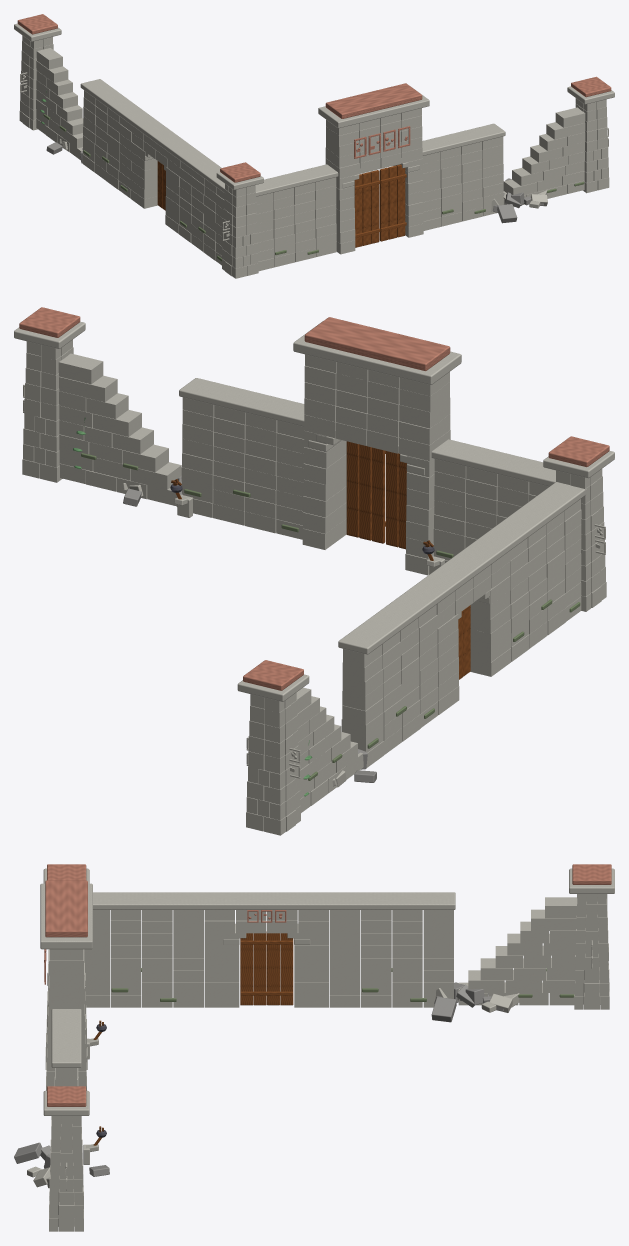
File: jungle-ruins-light.glb
3 renders of one model, top to bottom at view 1: azimuth 30°, elevation 25°; view 2: azimuth 150°, elevation 25°; view 3: azimuth 270°, elevation 25°, orthographic. The views are drawn at different scales.
Visible parts, largest first — view 1: 179-stone-gate-tower0, 180-stone-wall-block0, 178-stone-wall-block0, 181-stone-wall-collapsed0, 185-stone-wall-block0, 184-corbel-arch-doorway0, 183-stone-wall-block0, 186-stone-wall-collapsed0, 177-stone-corner-pier0, 182-stone-corner-pier0, 179-stone-gate-tower1, 187-stone-corner-pier0 (+7 smaller); view 2: 179-stone-gate-tower0, 180-stone-wall-block0, 185-stone-wall-block0, 181-stone-wall-collapsed0, 183-stone-wall-block0, 184-corbel-arch-doorway0, 178-stone-wall-block0, 187-stone-corner-pier0, 182-stone-corner-pier0, 186-stone-wall-collapsed0, 177-stone-corner-pier0, 179-stone-gate-tower1 (+6 smaller); view 3: 185-stone-wall-block0, 183-stone-wall-block0, 184-corbel-arch-doorway0, 186-stone-wall-collapsed0, 179-stone-gate-tower0, 182-stone-corner-pier0, 187-stone-corner-pier0, 184-corbel-arch-doorwaydoor-corbel, 179-stone-gate-tower1, 180-stone-wall-block0, 186-stone-wall-collapsed1, 187-stone-corner-pier1 (+3 smaller).
Part boxes in pixels (<box>): 179-stone-gate-tower0: <box>318,86,429,254</box>; 180-stone-wall-block0: <box>422,123,505,230</box>; 178-stone-wall-block0: <box>255,164,338,271</box>; 181-stone-wall-collapsed0: <box>491,107,585,211</box>; 185-stone-wall-block0: <box>80,79,148,198</box>; 184-corbel-arch-doorway0: <box>129,114,196,233</box>; 183-stone-wall-block0: <box>177,149,225,265</box>; 186-stone-wall-collapsed0: <box>36,48,83,160</box>; 177-stone-corner-pier0: <box>216,172,263,278</box>; 182-stone-corner-pier0: <box>567,86,614,193</box>; 179-stone-gate-tower1: <box>325,83,422,158</box>; 187-stone-corner-pier0: <box>14,23,61,130</box>; 179-stone-gate-tower0: <box>293,321,461,575</box>; 180-stone-wall-block0: <box>179,378,304,539</box>; 185-stone-wall-block0: <box>338,587,441,768</box>; 181-stone-wall-collapsed0: <box>58,353,181,506</box>; 183-stone-wall-block0: <box>485,482,586,661</box>; 184-corbel-arch-doorway0: <box>412,534,514,714</box>; 178-stone-wall-block0: <box>431,439,555,562</box>; 187-stone-corner-pier0: <box>237,674,309,835</box>; 182-stone-corner-pier0: <box>14,321,85,482</box>; 186-stone-wall-collapsed0: <box>296,687,363,812</box>; 177-stone-corner-pier0: <box>543,450,614,611</box>; 179-stone-gate-tower1: <box>304,317,450,371</box>; 185-stone-wall-block0: <box>329,892,455,1007</box>; 183-stone-wall-block0: <box>84,892,204,1007</box>; 184-corbel-arch-doorway0: <box>204,892,329,1007</box>; 186-stone-wall-collapsed0: <box>435,897,576,1012</box>; 179-stone-gate-tower0: <box>40,883,92,1090</box>; 182-stone-corner-pier0: <box>43,1091,89,1231</box>; 187-stone-corner-pier0: <box>569,868,614,1009</box>; 184-corbel-arch-doorwaydoor-corbel: <box>240,931,293,1005</box>; 179-stone-gate-tower1: <box>44,880,87,984</box>; 180-stone-wall-block0: <box>51,1009,81,1086</box>; 186-stone-wall-collapsed1: <box>431,982,503,1022</box>; 187-stone-corner-pier1: <box>572,864,611,884</box>.
Bounding box in the file's own units: 14.27 × 4.8 × 14.41.
8 materials, 7 textured.
